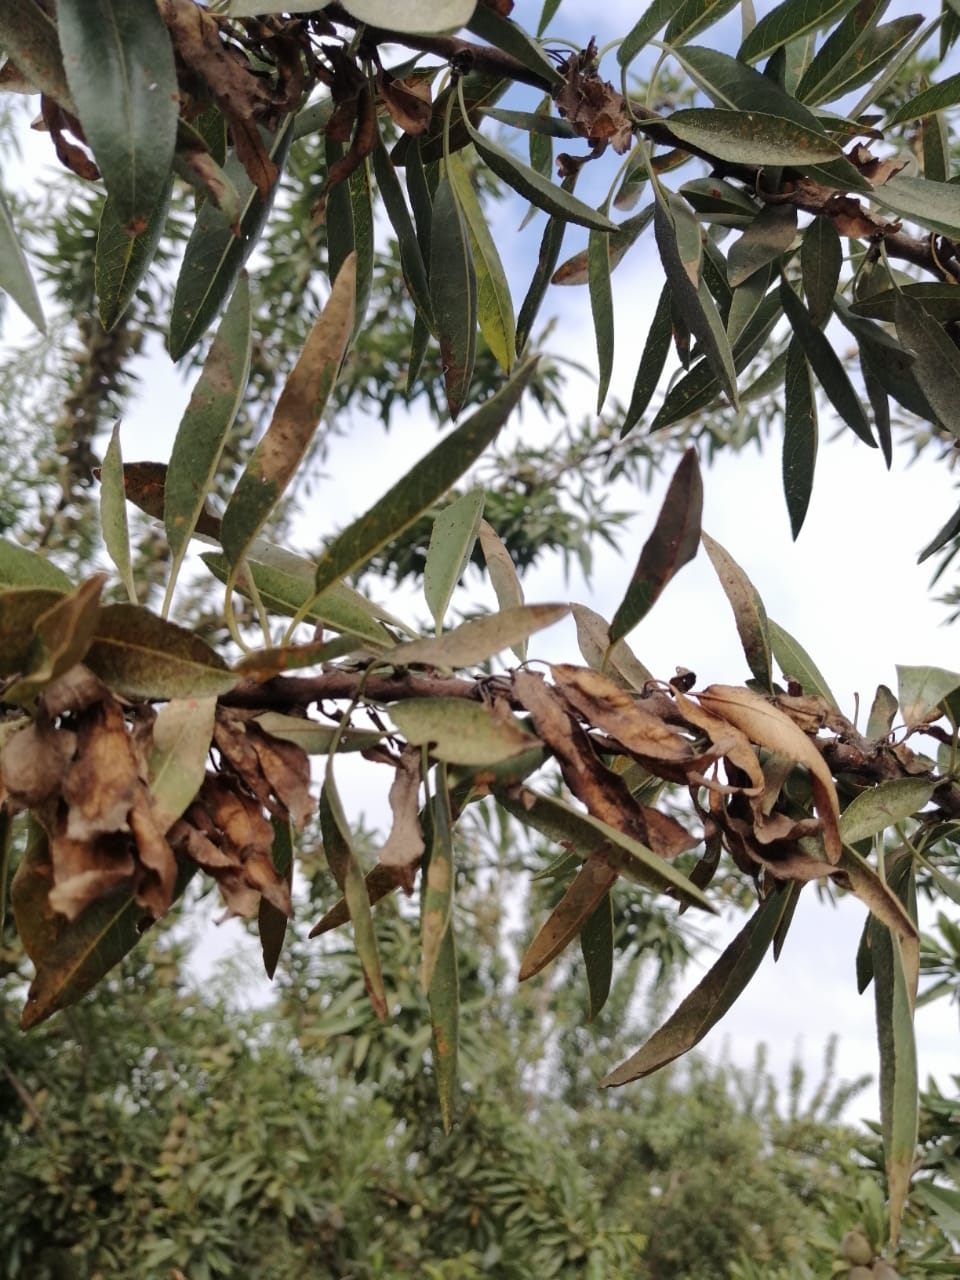scolytes: (1, 575, 952, 1027), (153, 34, 926, 200)
